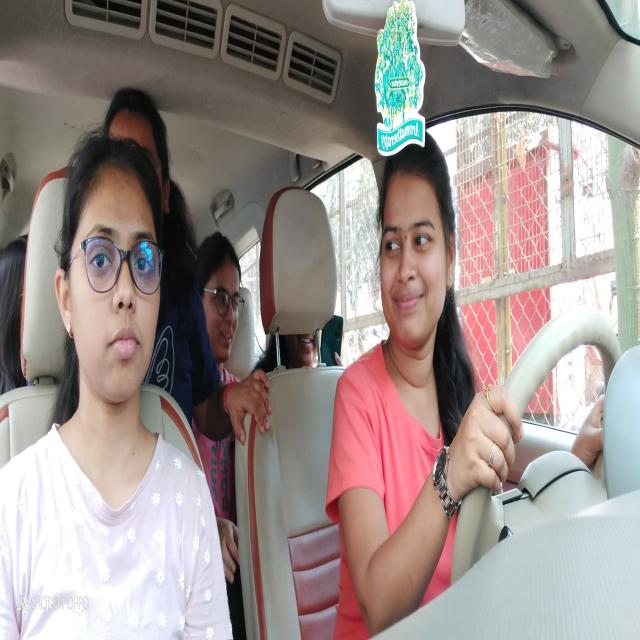LeftRight: (374, 146, 458, 354)
person: (54, 131, 166, 410), (199, 225, 244, 362), (108, 84, 173, 153), (286, 330, 322, 363)
